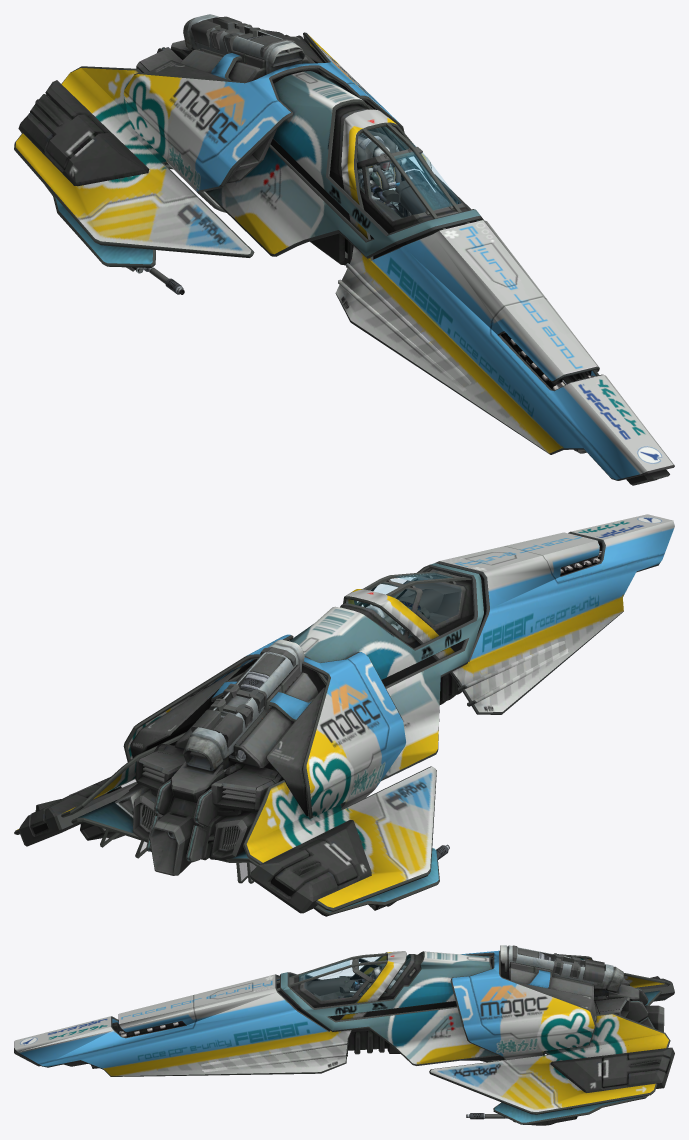
The model's file is ship_model.glb.
3 views of the same model, one above another, from view 1: azimuth 30°, elevation 25°; view 2: azimuth 150°, elevation 25°; view 3: azimuth 270°, elevation 25° (orthographic). The views are drawn at different scales.
Parts seen in each view (by area): view 1: Feisar; view 2: Feisar; view 3: Feisar.
Part boxes in pixels (x1,y1,x2,y2): Feisar: (14, 14, 674, 485); Feisar: (14, 514, 674, 916); Feisar: (14, 945, 674, 1125).
Size of the model in its own units: 2.35 by 1.37 by 6.12.
4 materials, 4 textured.
